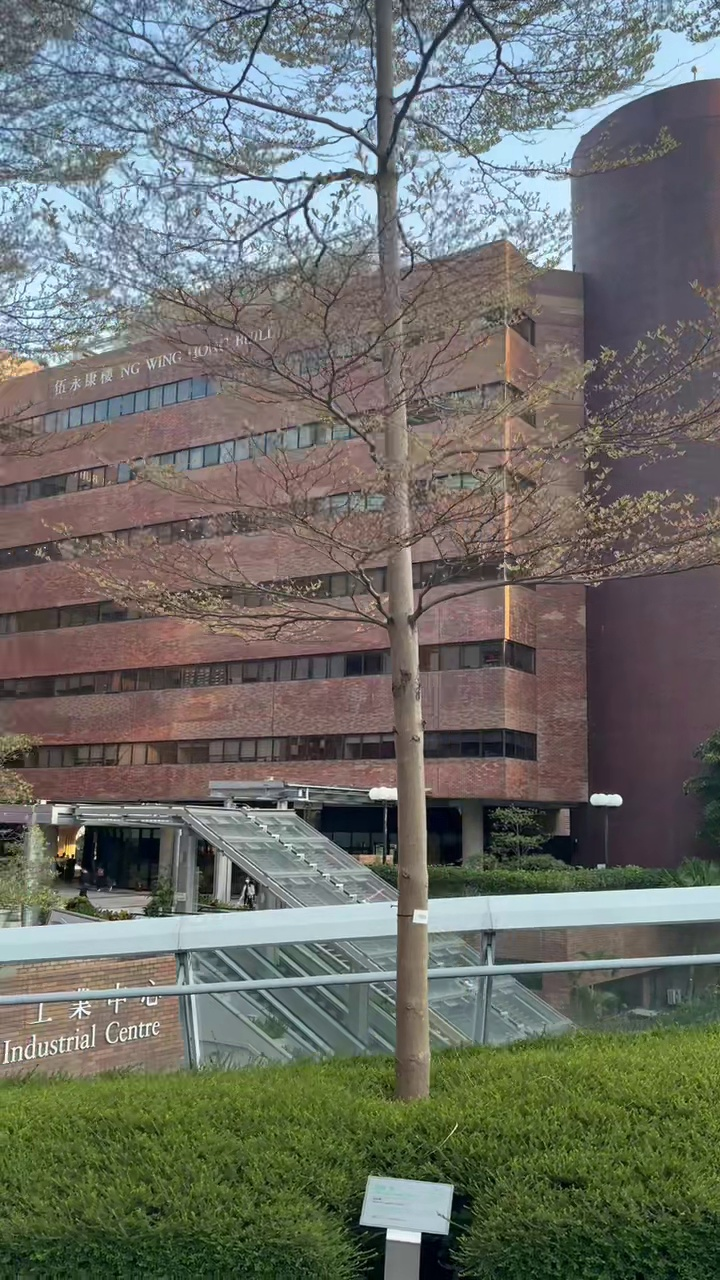Terminalia mantaly: (47, 0, 719, 1100)
